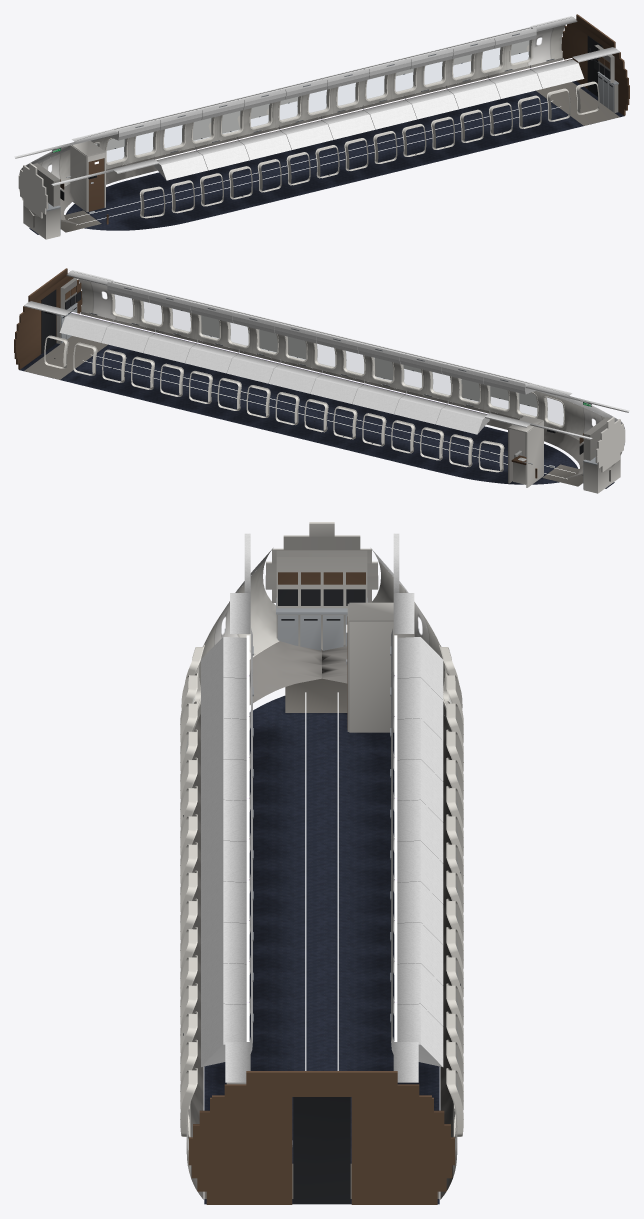
Rendered from ma-as-cabin.glb.
3 renders of one model, top to bottom at view 1: azimuth 30°, elevation 25°; view 2: azimuth 150°, elevation 25°; view 3: azimuth 270°, elevation 25°, orthographic. The views are drawn at different scales.
Visible parts, largest first — view 1: Cabin_Floor, Cabin_Overhead, Cabin_Reveals, Cabin_Lining, Cabin_Monuments; view 2: Cabin_Floor, Cabin_Overhead, Cabin_Reveals, Cabin_Lining, Cabin_Monuments; view 3: Cabin_Floor, Cabin_Monuments, Cabin_Overhead, Cabin_Reveals, Cabin_Lining.
Boxes of the visible parts, x1,y1,x2,y2 form: Cabin_Floor: (29, 81, 624, 234); Cabin_Overhead: (14, 16, 619, 185); Cabin_Reveals: (94, 39, 599, 218); Cabin_Lining: (19, 17, 573, 227); Cabin_Monuments: (18, 14, 629, 239); Cabin_Floor: (19, 336, 614, 488); Cabin_Overhead: (24, 270, 629, 439); Cabin_Reveals: (44, 293, 564, 472); Cabin_Lining: (70, 271, 624, 481); Cabin_Monuments: (14, 268, 625, 493); Cabin_Floor: (204, 678, 439, 1204); Cabin_Monuments: (188, 522, 455, 1204); Cabin_Overhead: (201, 533, 443, 1082); Cabin_Reveals: (180, 644, 463, 1139); Cabin_Lining: (186, 548, 457, 1199).
Bounding box in the file's own units: 21.86 × 2.45 × 4.76.
22 materials, 7 textured.
